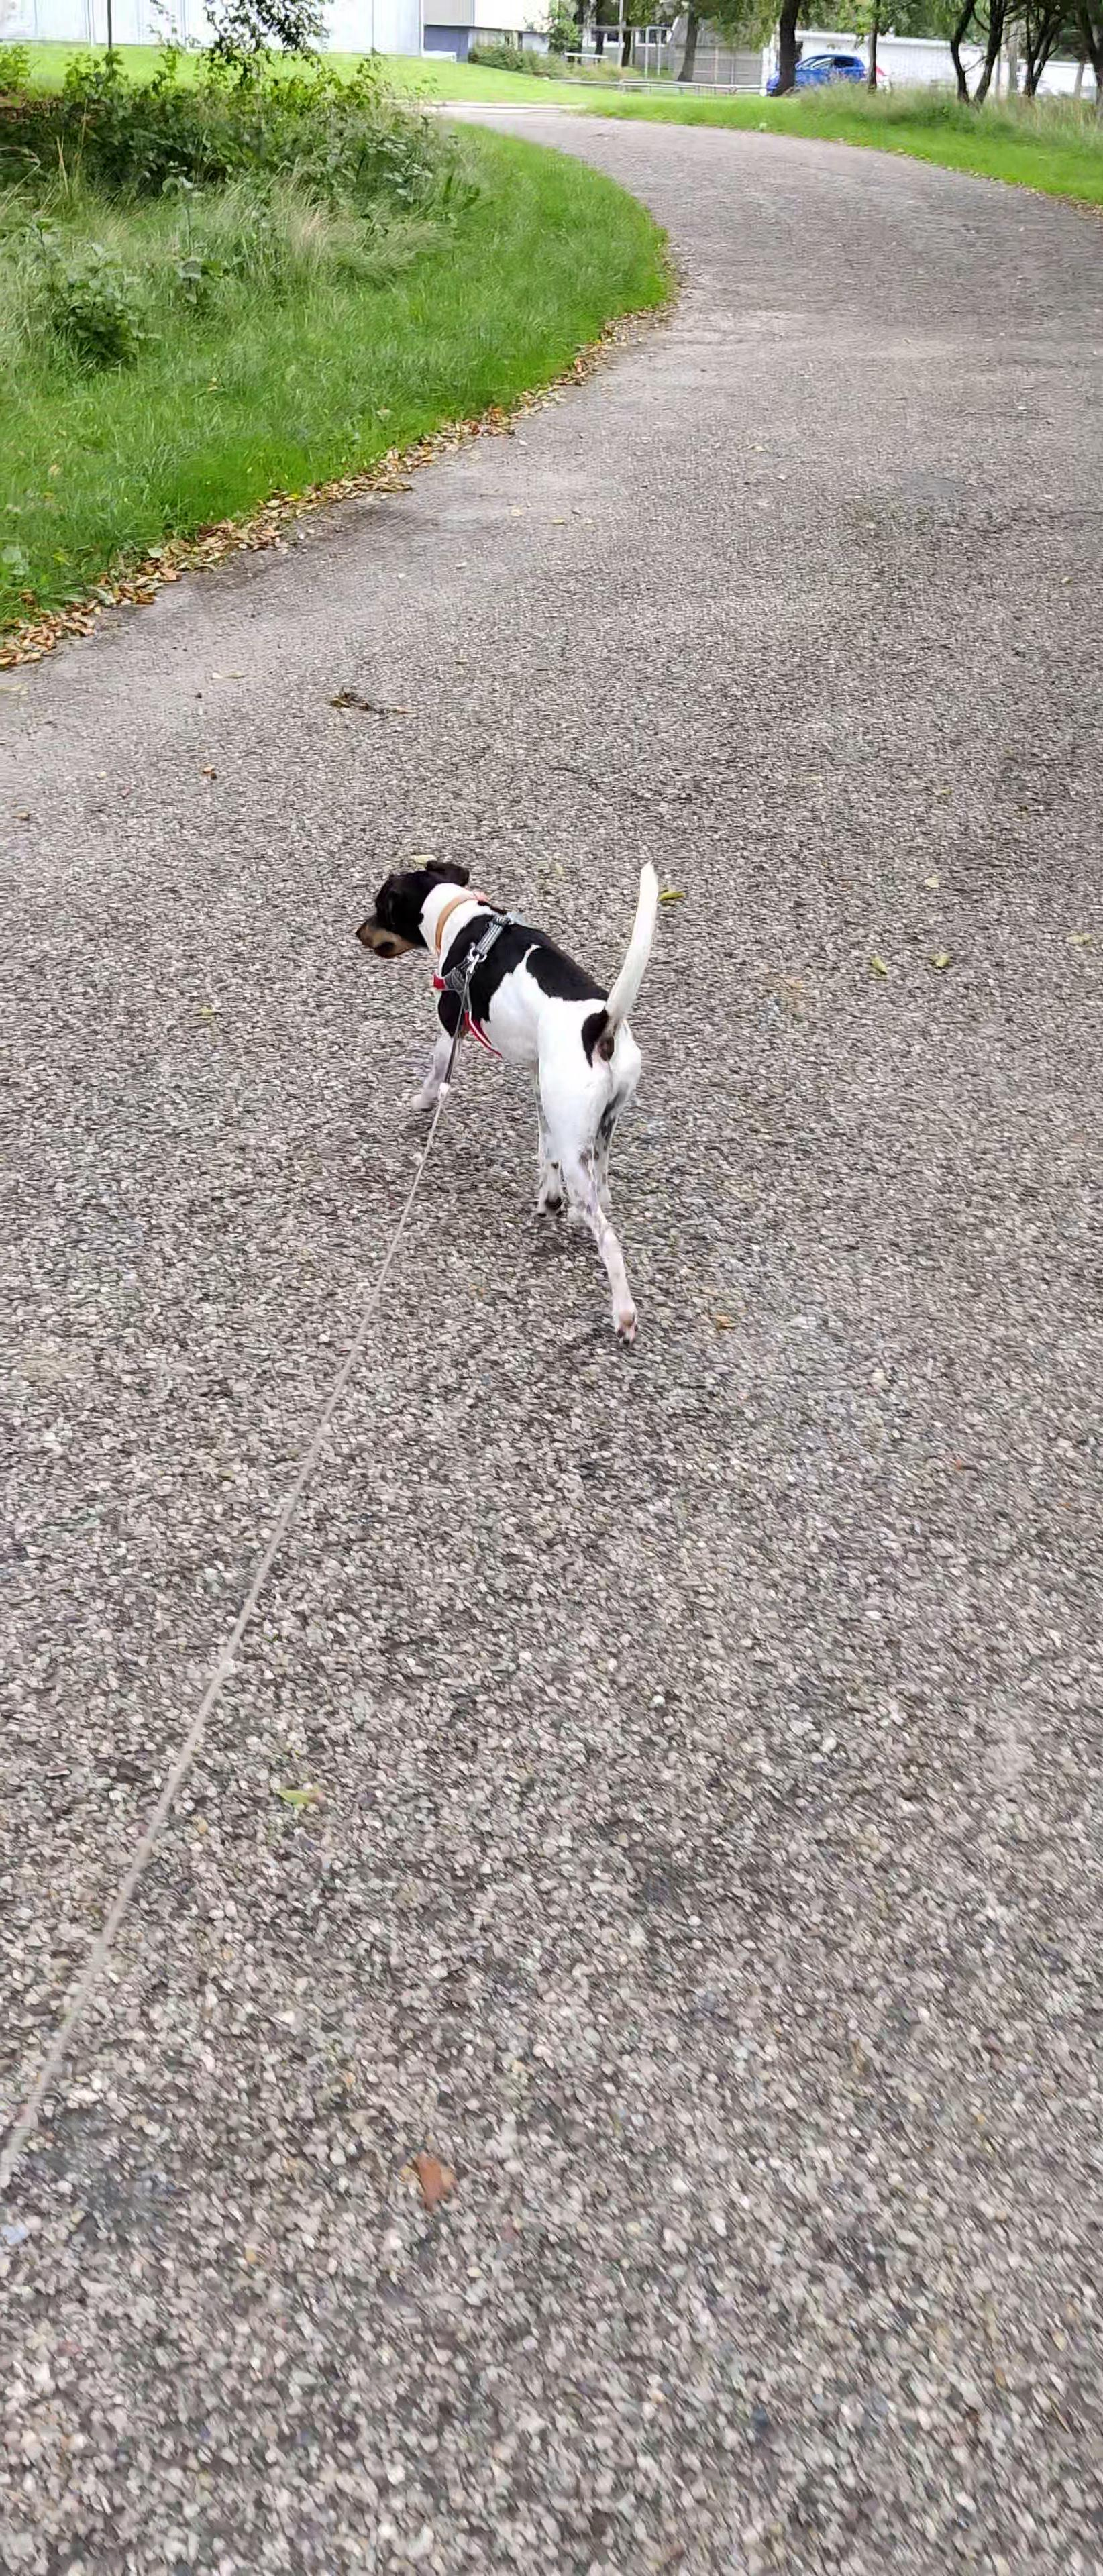Dog: (350, 823, 664, 1347)
